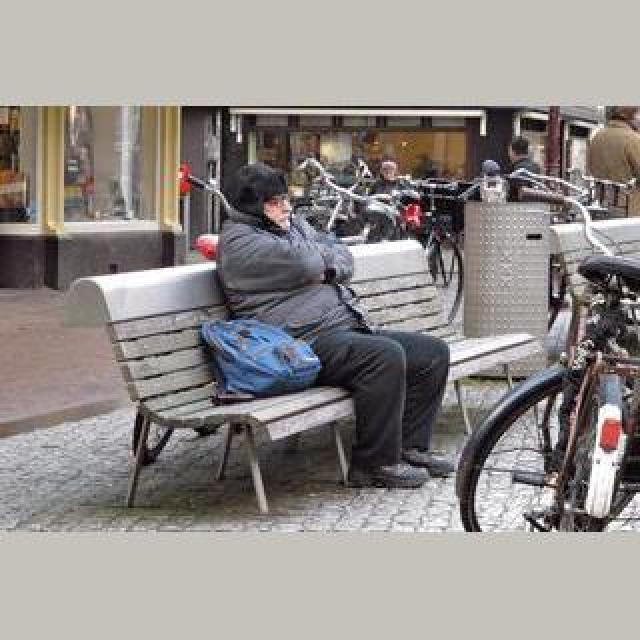MC-Bike: (218, 162, 450, 498)
Person: (456, 222, 640, 532)
